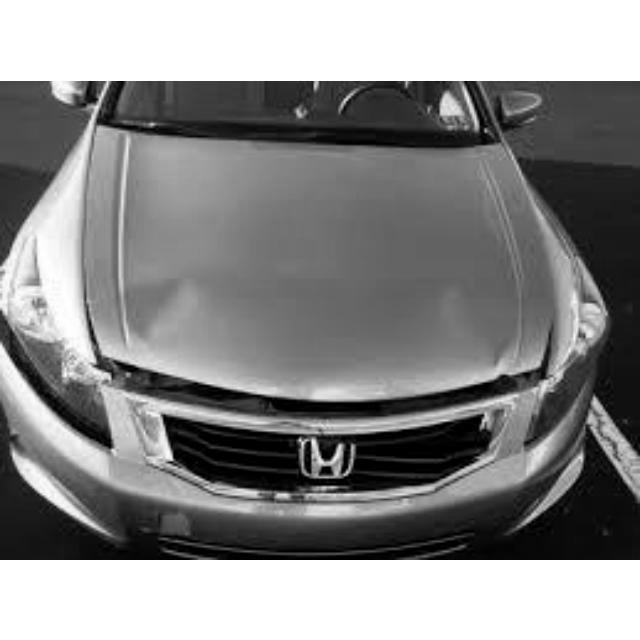bonnet-dent: (85, 207, 302, 379)
